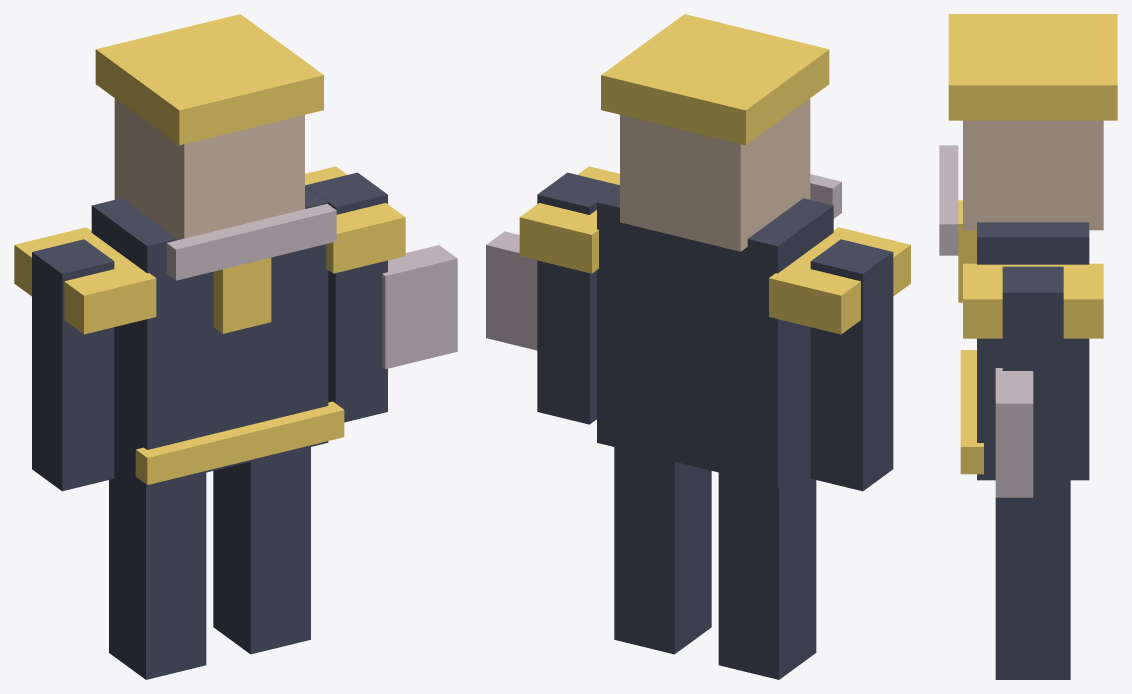
File: 08_bryn_latchward_navigator_of_drone.glb
3 views of the same model, side by side, from view 1: azimuth 30°, elevation 25°; view 2: azimuth 150°, elevation 25°; view 3: azimuth 270°, elevation 25° (orthographic).
Parts seen in each view (by area): view 1: Bryn Latchward, Navigator of Drone; view 2: Bryn Latchward, Navigator of Drone; view 3: Bryn Latchward, Navigator of Drone.
Part boxes in pixels (x1,y1,x2,y2): Bryn Latchward, Navigator of Drone: (14, 14, 457, 679); Bryn Latchward, Navigator of Drone: (486, 14, 910, 679); Bryn Latchward, Navigator of Drone: (939, 14, 1117, 679).
Bounding box in the file's own units: 0.9948 × 1.42 × 0.3877.
